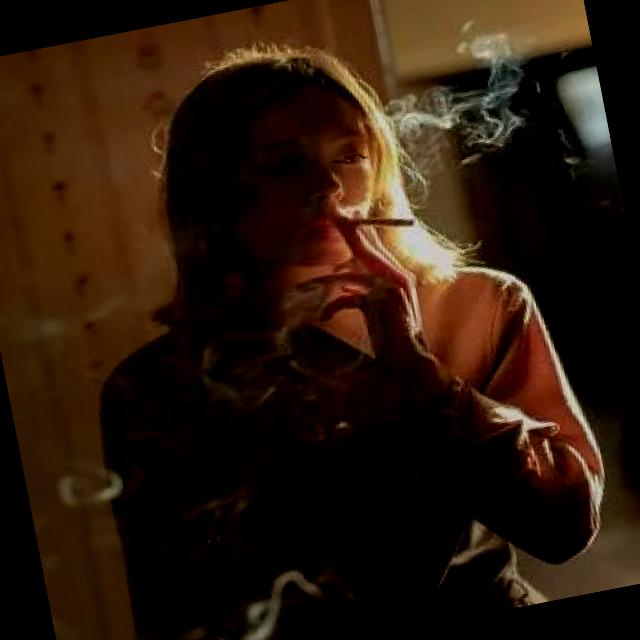cigarette: (335, 198, 425, 248)
